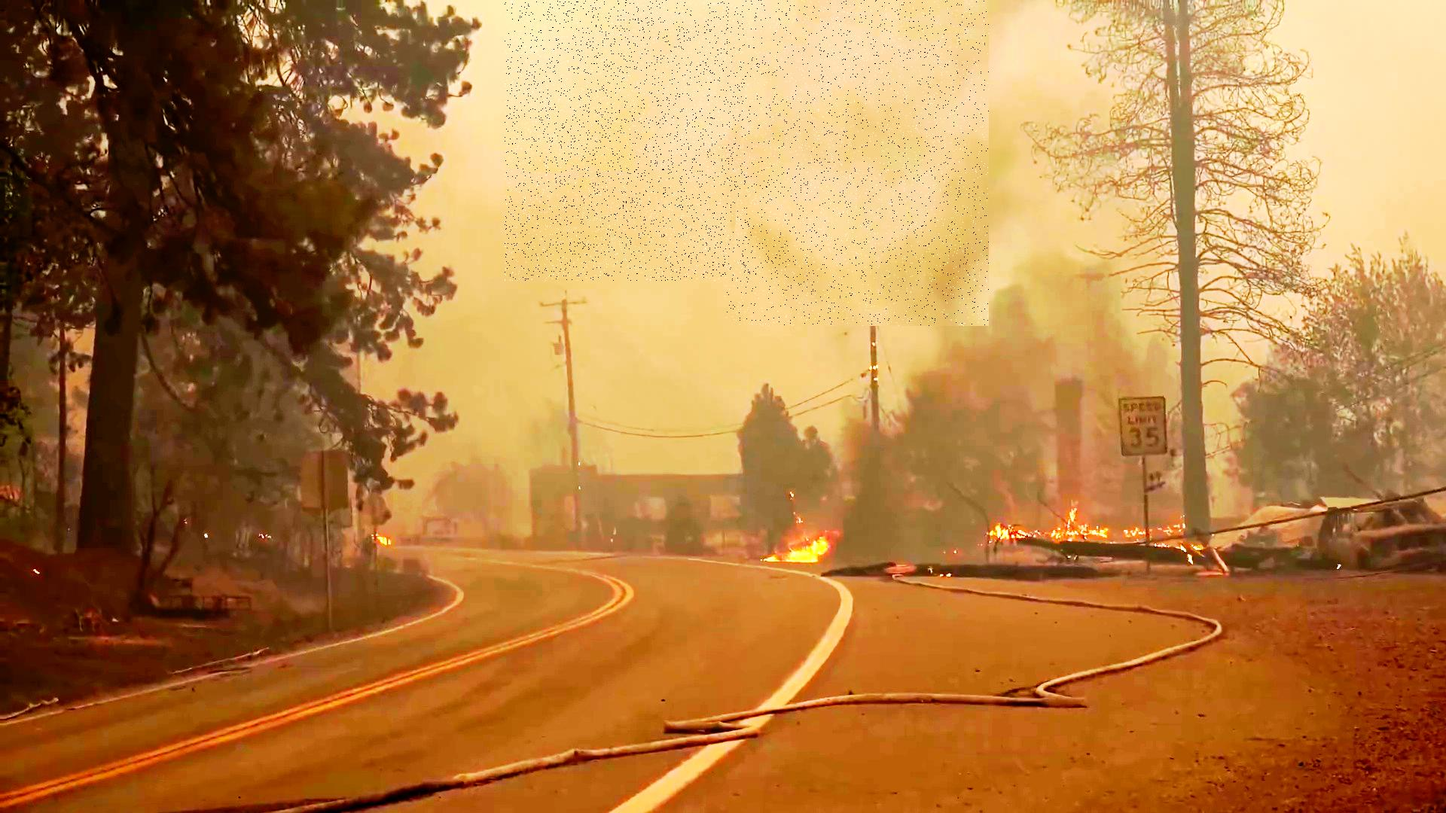smoke: (724, 0, 989, 326), (505, 0, 751, 281)
